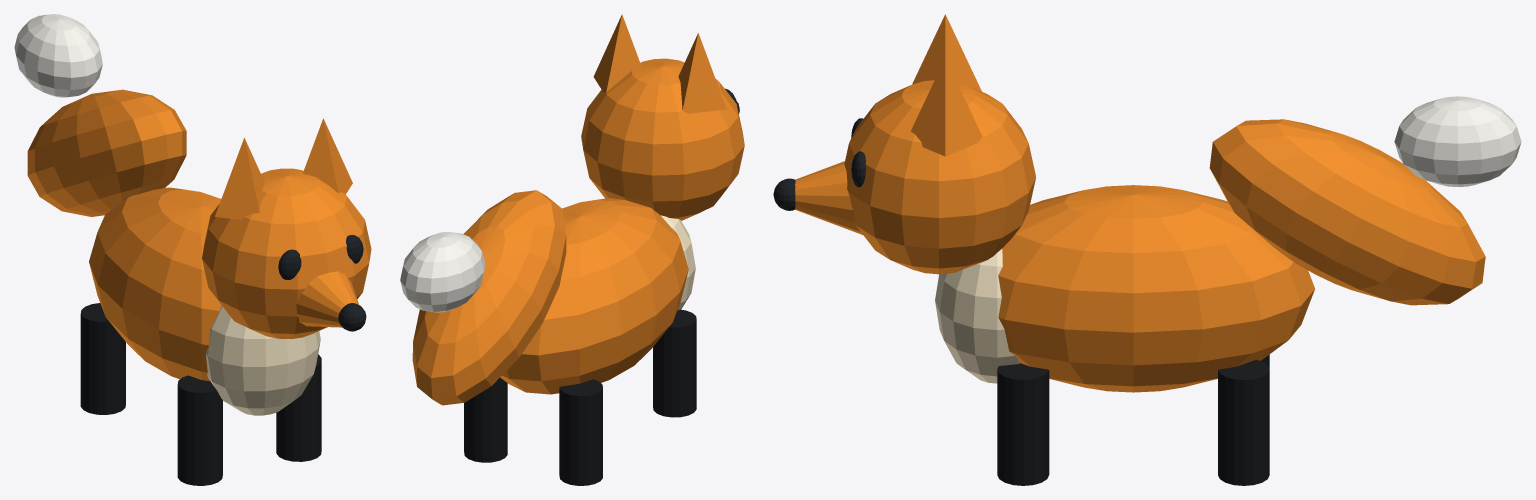
Rendered from fox-lod0.glb.
3 renders of one model, left to right at view 1: azimuth 30°, elevation 25°; view 2: azimuth 150°, elevation 25°; view 3: azimuth 270°, elevation 25°, orthographic. The views are drawn at different scales.
Visible parts, largest first — view 1: fox; view 2: fox; view 3: fox.
Part boxes in pixels (x1,y1,x2,y2): fox: [14, 14, 371, 485]; fox: [400, 14, 744, 485]; fox: [773, 14, 1521, 485].
Size of the model in its own units: 0.32 by 0.7 by 1.15.
